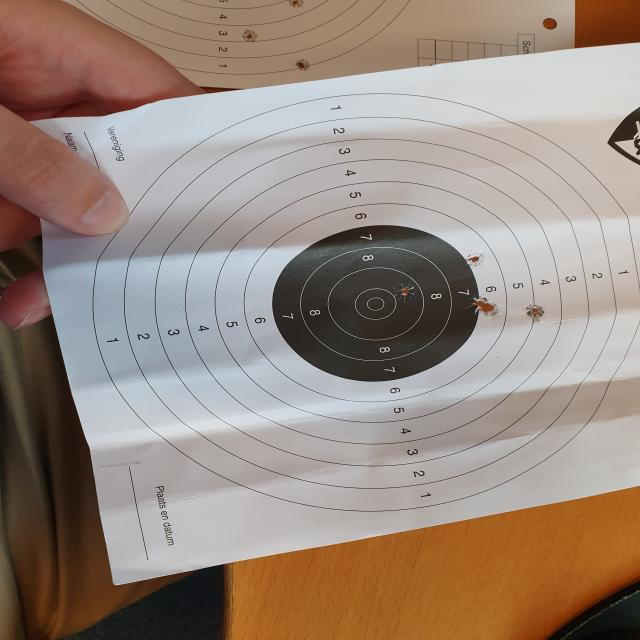5: (521, 301, 550, 320)
6: (479, 304, 503, 318)
7: (463, 252, 488, 270), (467, 292, 486, 308)
9: (394, 284, 421, 299)
Target: (95, 93, 640, 511)
black_contour: (272, 226, 479, 382)
